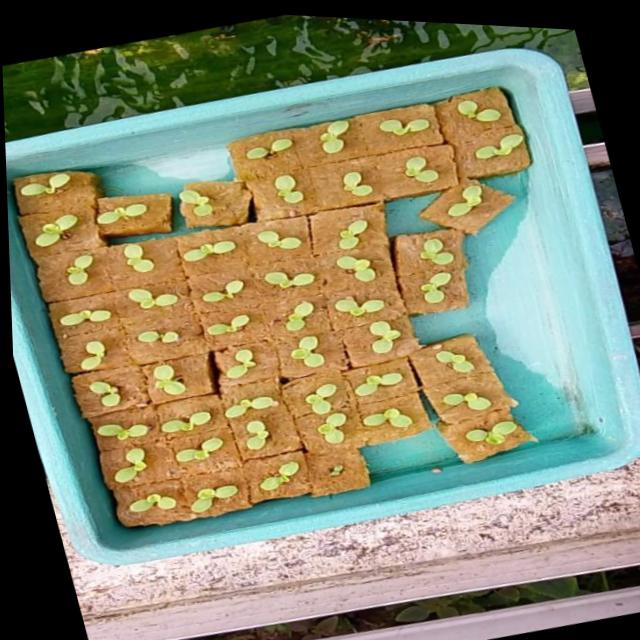Baby: (445, 94, 510, 128), (435, 182, 485, 225), (55, 247, 108, 286), (452, 125, 502, 160), (335, 288, 384, 320), (128, 328, 188, 354), (212, 348, 259, 380), (345, 369, 398, 396), (335, 255, 390, 281), (78, 381, 117, 415), (88, 423, 148, 445), (378, 115, 438, 137), (186, 485, 233, 513), (461, 417, 512, 442), (220, 395, 273, 418), (255, 460, 295, 490), (419, 229, 452, 264), (148, 364, 183, 396), (197, 278, 243, 302), (156, 411, 207, 432), (365, 319, 397, 352), (286, 334, 319, 366), (111, 448, 142, 482), (126, 287, 176, 308), (318, 120, 347, 154), (301, 382, 332, 413), (205, 313, 248, 335), (262, 270, 312, 288), (338, 217, 366, 249), (126, 493, 173, 512), (362, 409, 409, 428), (400, 157, 434, 183), (437, 389, 486, 407), (431, 348, 469, 371), (283, 300, 312, 330), (313, 410, 341, 441), (57, 308, 108, 325), (121, 243, 151, 271), (272, 174, 302, 202), (78, 341, 104, 370), (340, 170, 370, 195), (418, 278, 449, 302), (242, 420, 264, 450), (172, 444, 210, 461), (258, 230, 291, 248)
